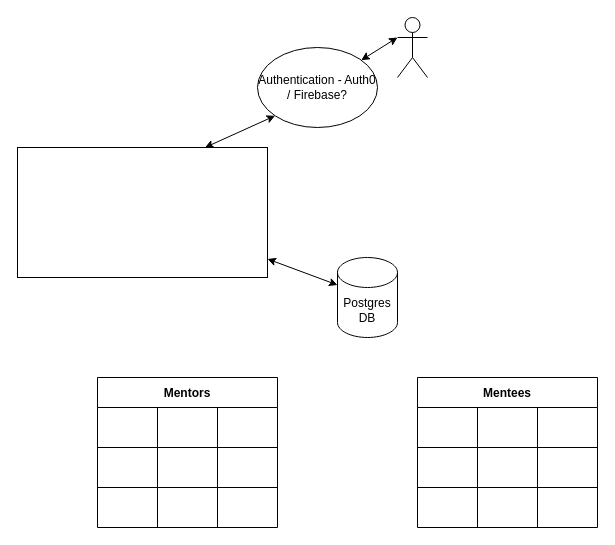
Image size: 615x545. Some labels were removed from this diagram. Each missing label, with the centre of its shape:
"Actor" goes at point (412, 47).
"Next.js Front-end and server" goes at point (142, 212).
